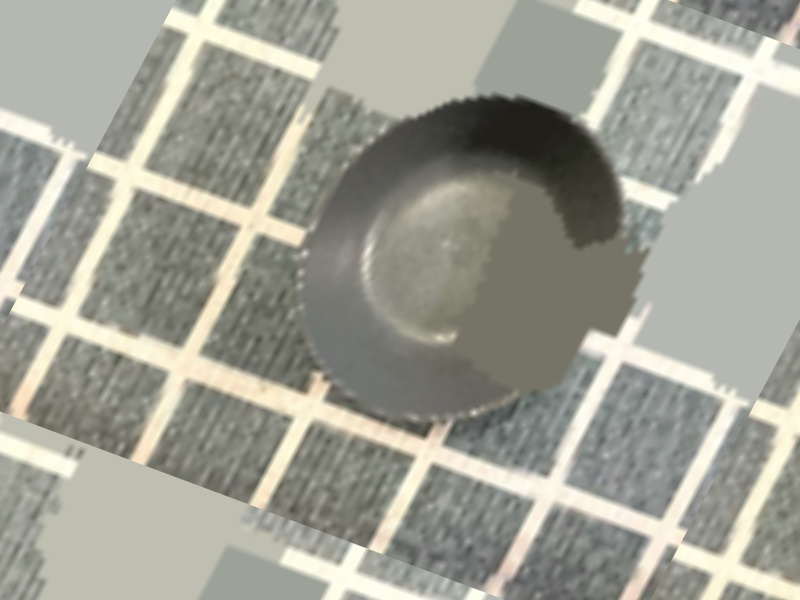bowl_big: (219, 37, 708, 487)
